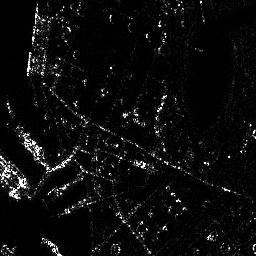ship: (16, 125, 46, 159)
